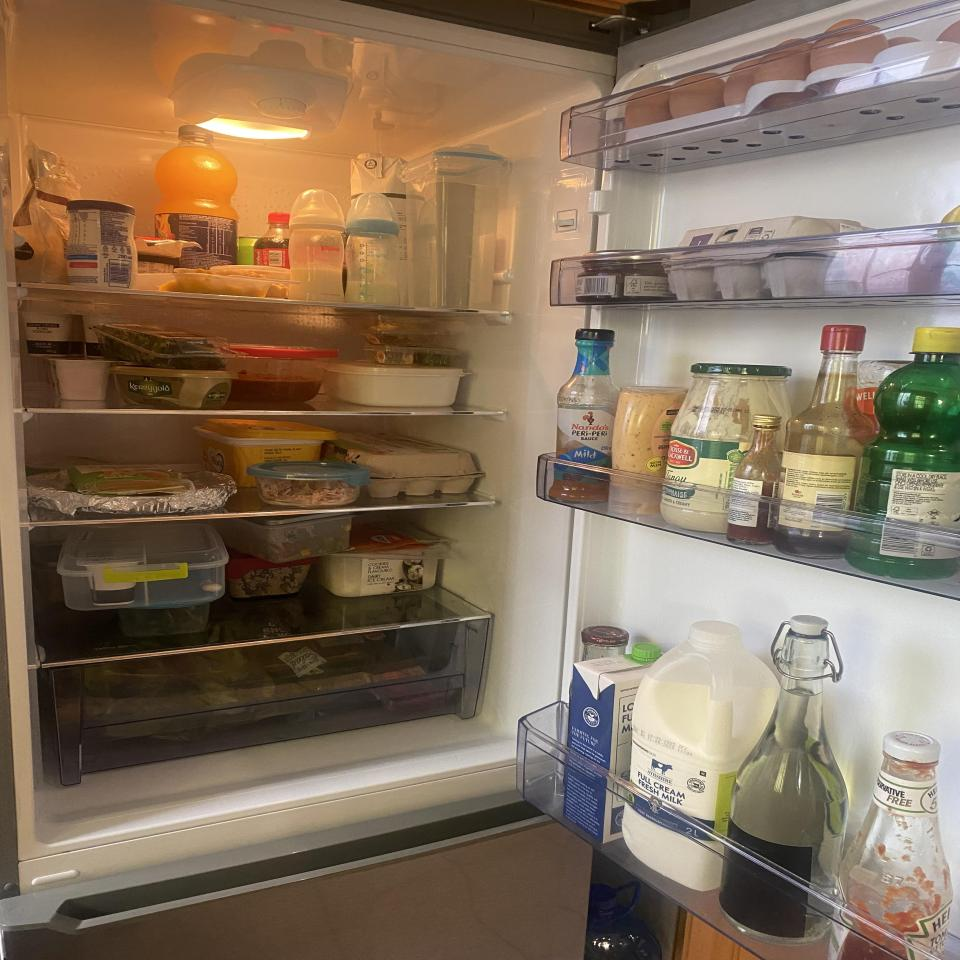Huevos: (623, 18, 960, 128), (666, 215, 871, 298), (328, 429, 486, 496)
Leche: (623, 620, 778, 890), (563, 643, 662, 846)
